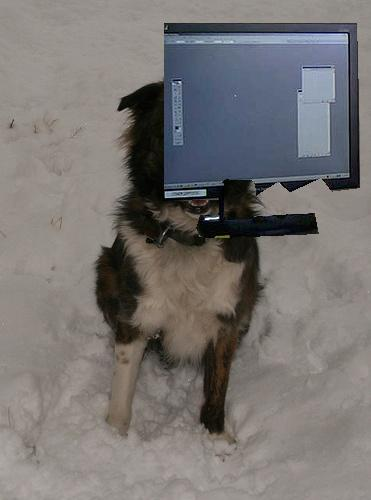tampered: (165, 24, 360, 238)
